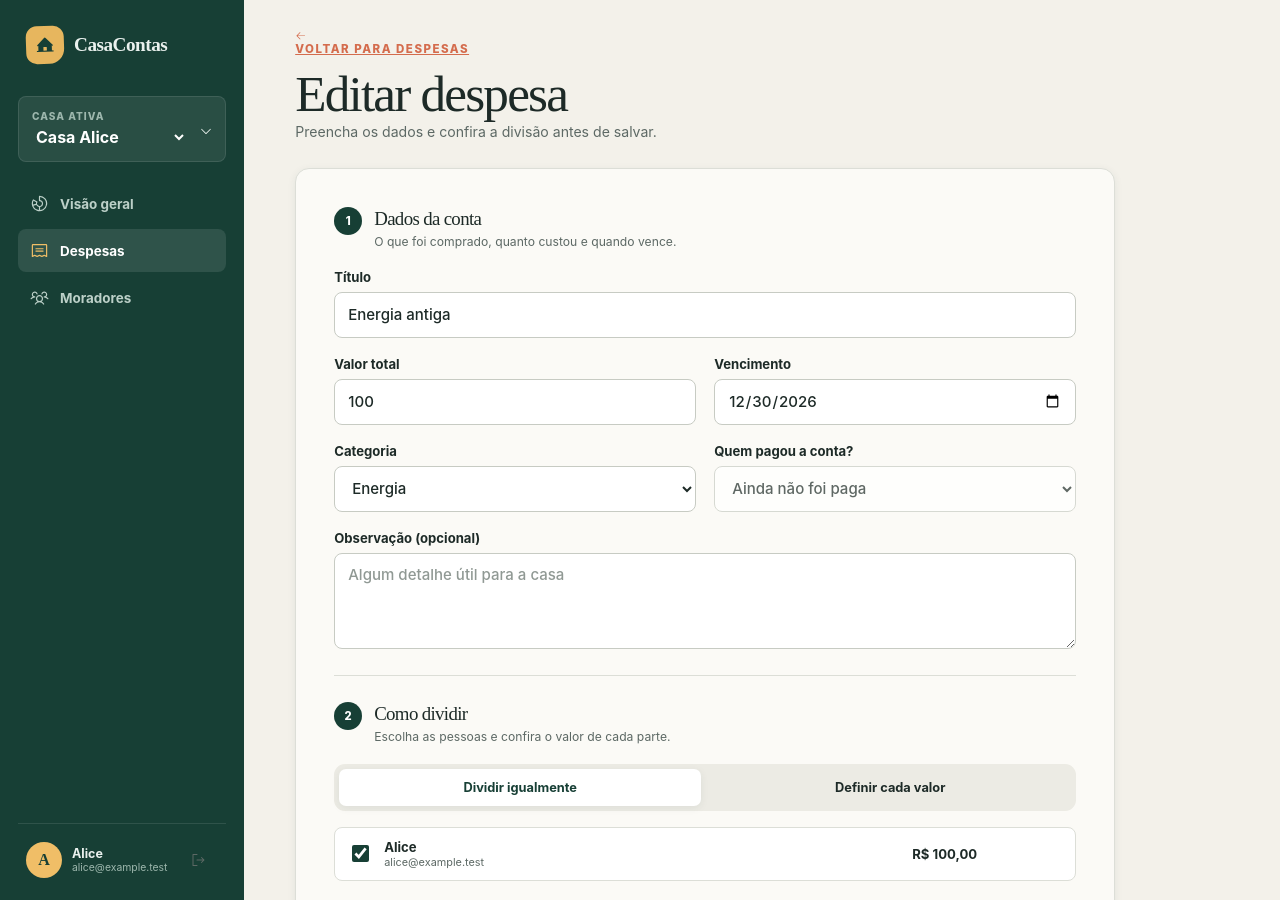
Scenario: atualiza o detalhe imediatamente depois de editar
Replace the text in the field labelled "Título" with "Energia corrigida" at [705, 315], box [334,292,1076,338]
(page scrolled)
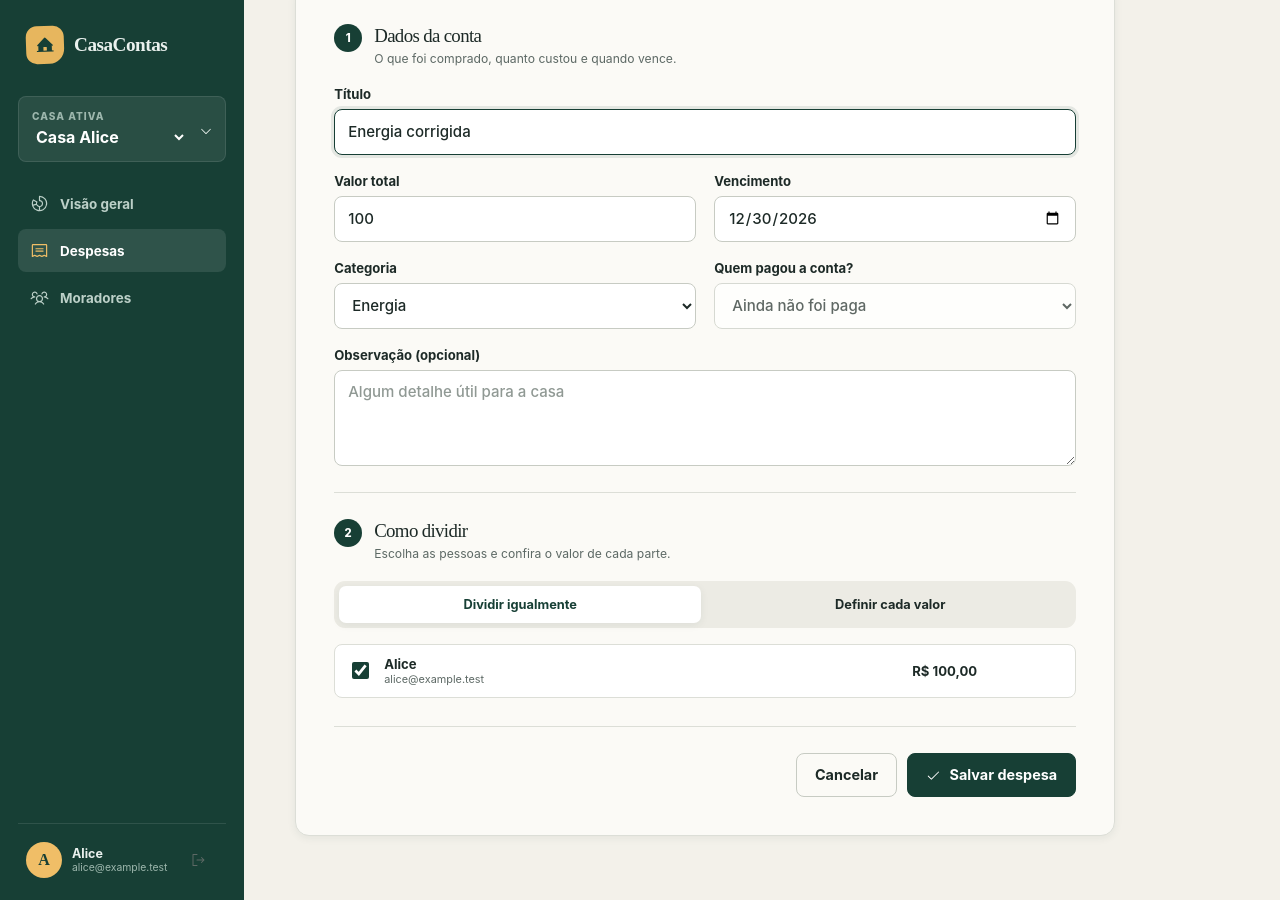
Click the button "Salvar despesa".
click(992, 775)  # box [907,753,1076,797]
(page scrolled)
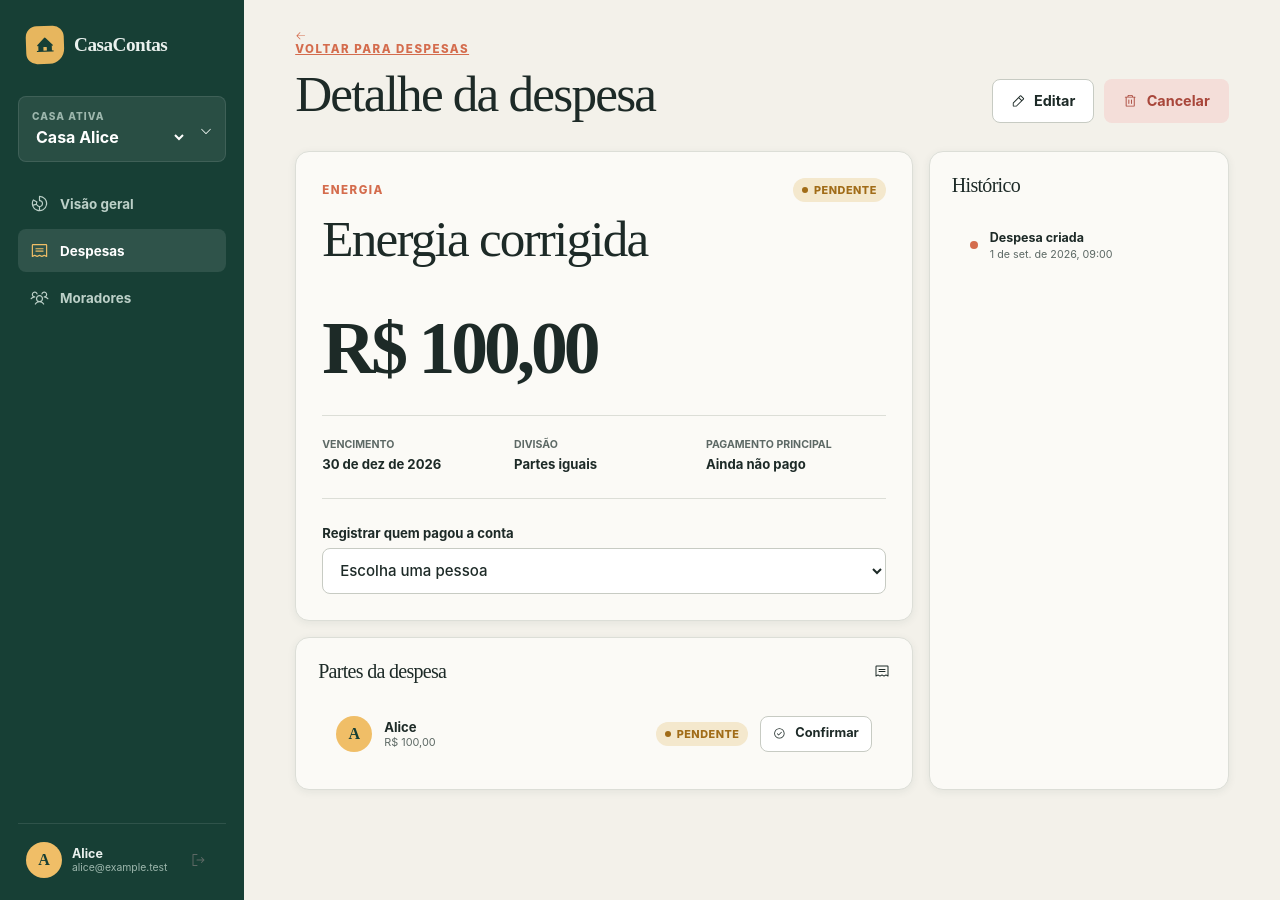
Check: the heading "Energia corrigida" is shown, box [322,209,648,268]
